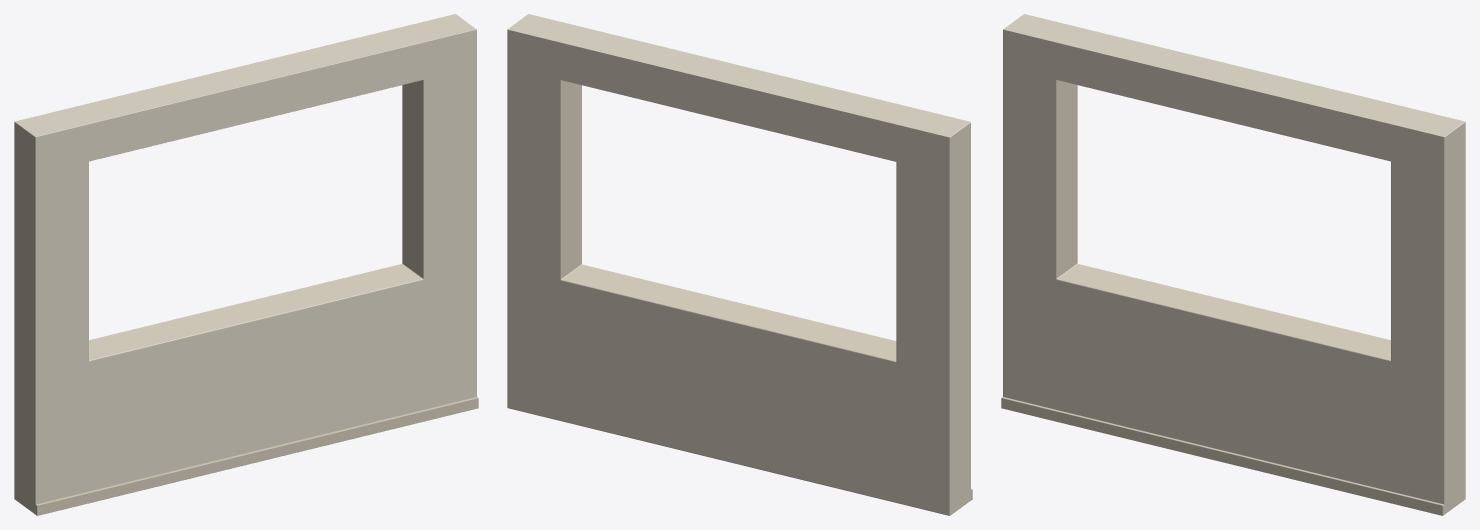
Rendered from Study_ShortWall.glb.
3 renders of one model, left to right at view 1: azimuth 30°, elevation 25°; view 2: azimuth 150°, elevation 25°; view 3: azimuth 330°, elevation 25°, orthographic.
Visible parts, largest first — view 1: Wall_PiercedShell, Wall_Skirting; view 2: Wall_PiercedShell; view 3: Wall_PiercedShell, Wall_Skirting.
Part boxes in pixels (box(x1,y1,x2,y2)): Wall_PiercedShell: box(14, 14, 476, 514); Wall_Skirting: box(35, 397, 478, 515); Wall_PiercedShell: box(507, 14, 970, 515); Wall_PiercedShell: box(1003, 14, 1465, 514); Wall_Skirting: box(1001, 397, 1444, 515).
Bounding box in the file's own units: 2.88 × 2.36 × 0.258.
